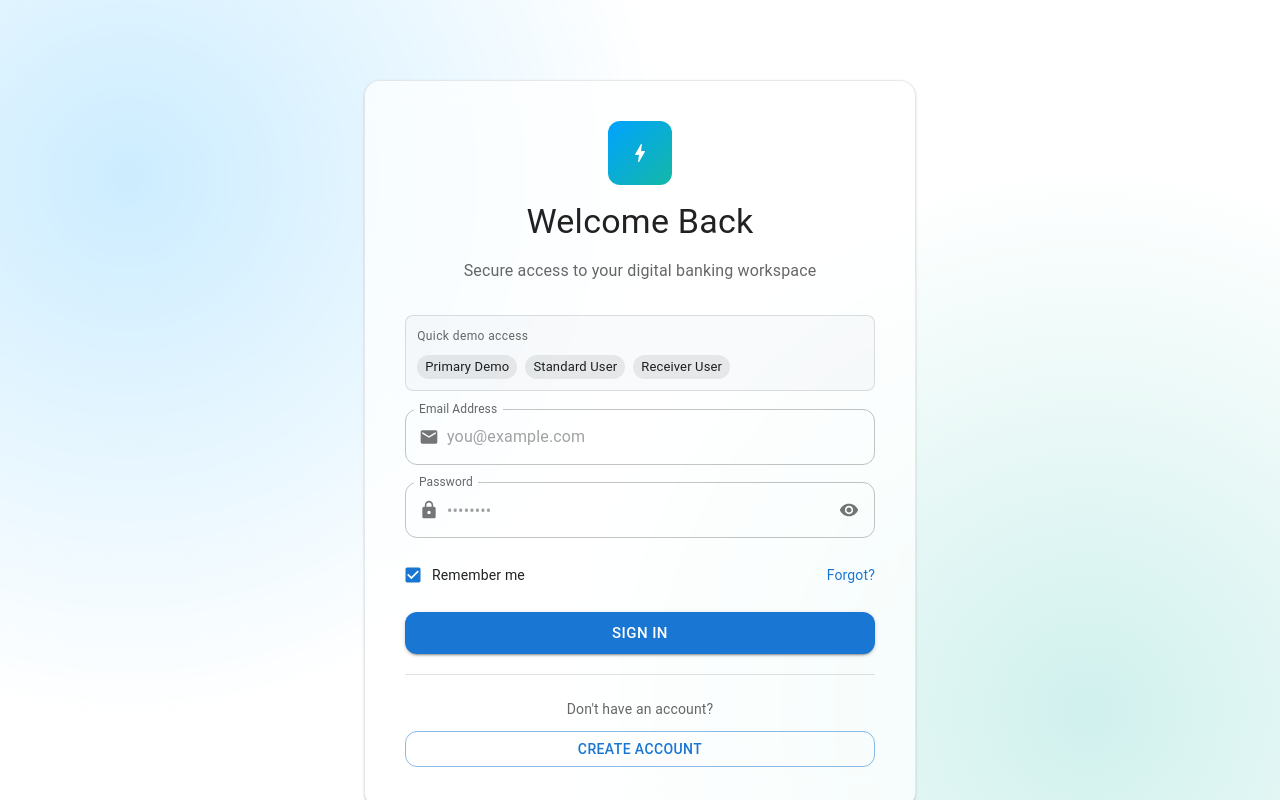
it: Login form shows error on failed login
Type "john@example.com" into the field with placeholder "you@example.com". click: (661, 437)
box: top-left (447, 409), bottom-right (875, 465)
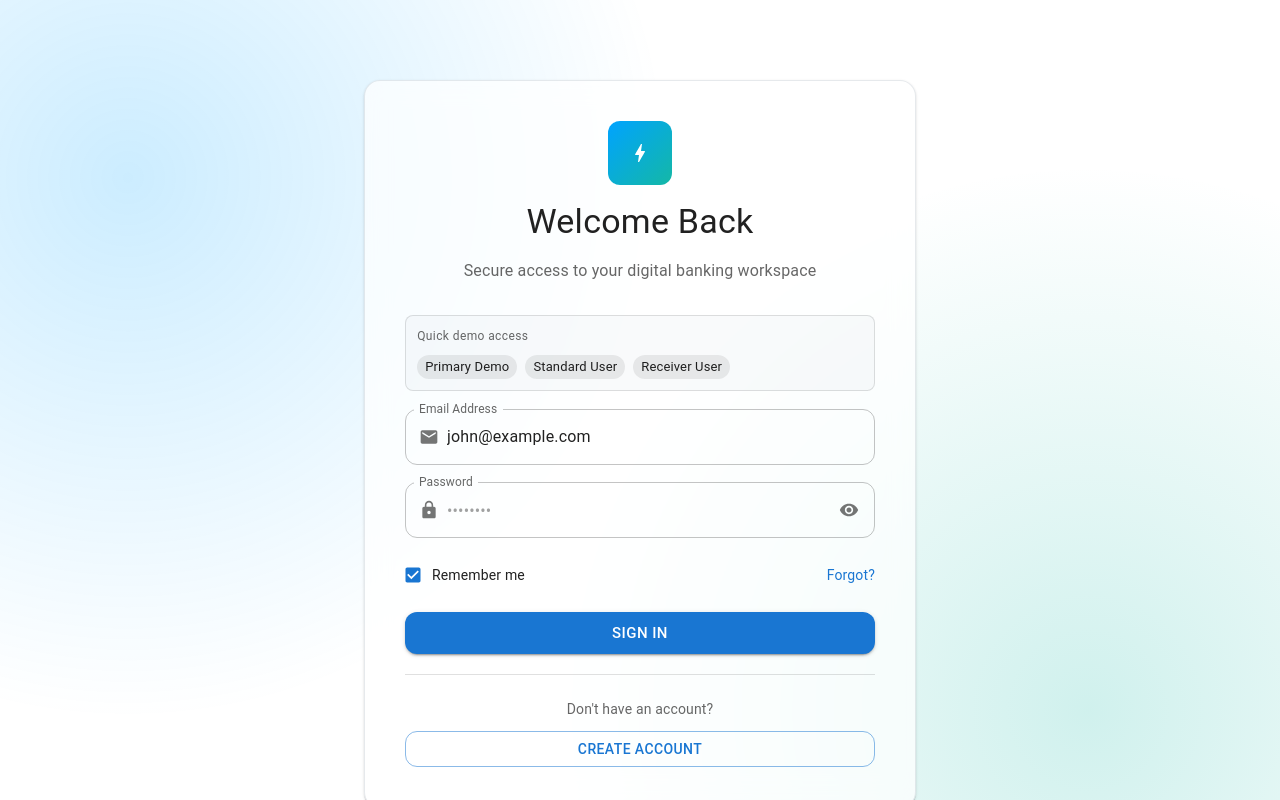
Type "wrongpassword" into the password field with placeholder "••••••••". click: (636, 510)
box: top-left (447, 482), bottom-right (826, 538)
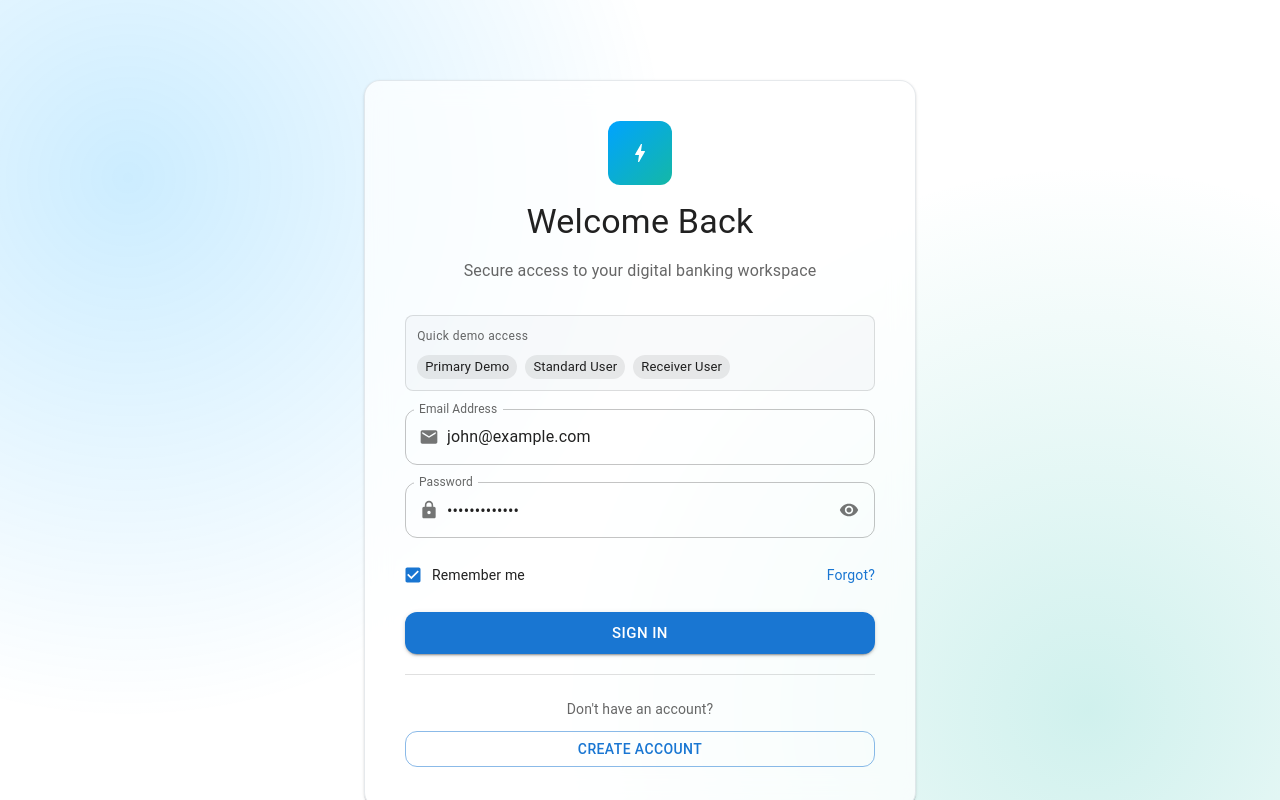
Click the button "Sign In". click: click(640, 633)
box: top-left (405, 612), bottom-right (875, 654)
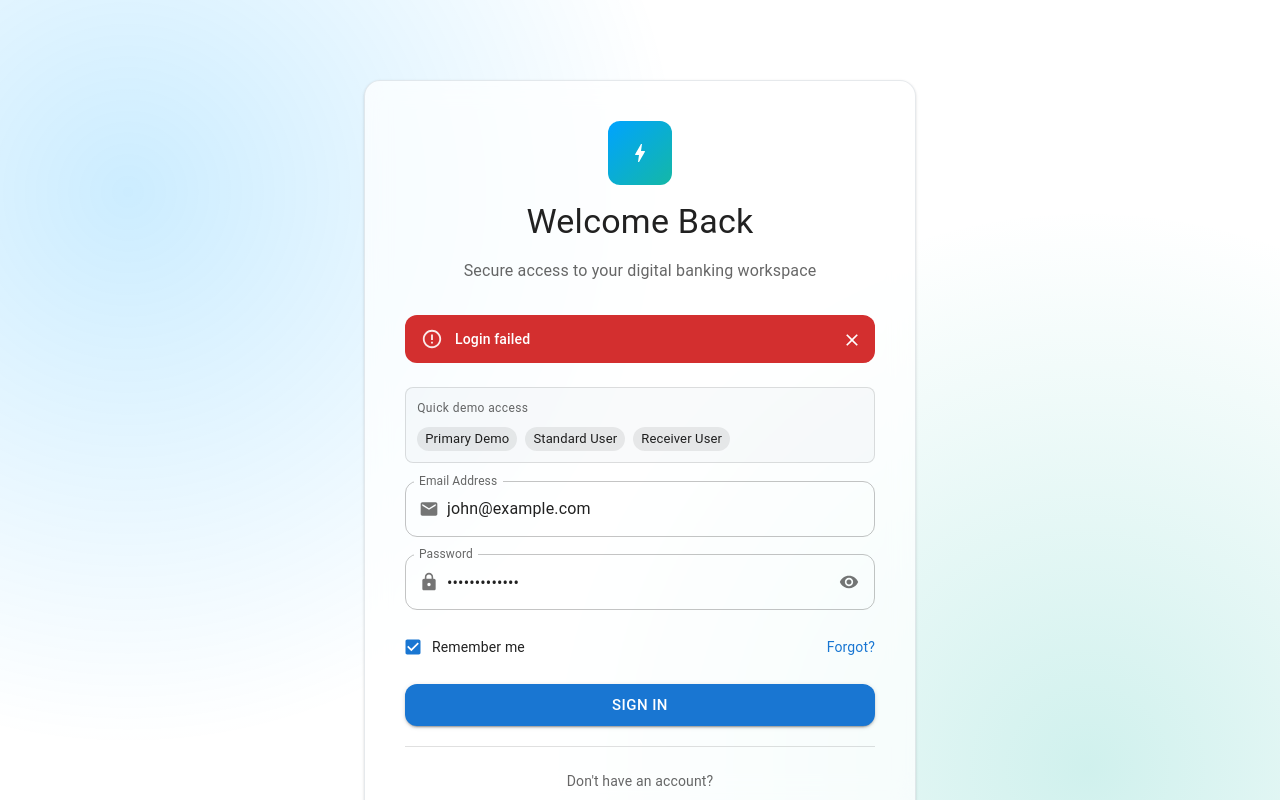
Result: the text "Login failed" is shown at top-left (455, 331), bottom-right (530, 347)
